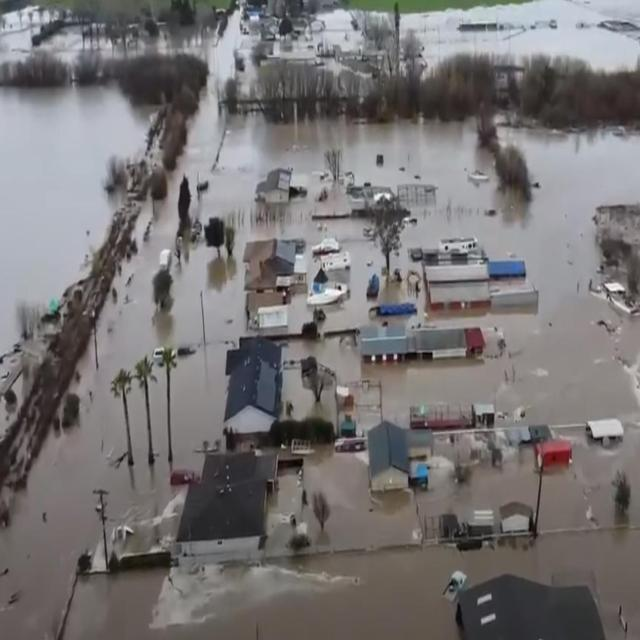flood: (0, 90, 640, 640), (0, 85, 157, 353), (401, 0, 640, 69), (92, 9, 240, 76), (323, 217, 385, 329), (0, 7, 82, 62), (279, 348, 336, 422), (287, 230, 323, 332), (319, 8, 357, 51)
house: (175, 448, 276, 578), (451, 573, 607, 640), (358, 320, 488, 368), (223, 340, 283, 440), (420, 233, 492, 310), (367, 422, 435, 496), (249, 237, 296, 277), (252, 292, 292, 334), (254, 178, 289, 224), (488, 255, 527, 281)
